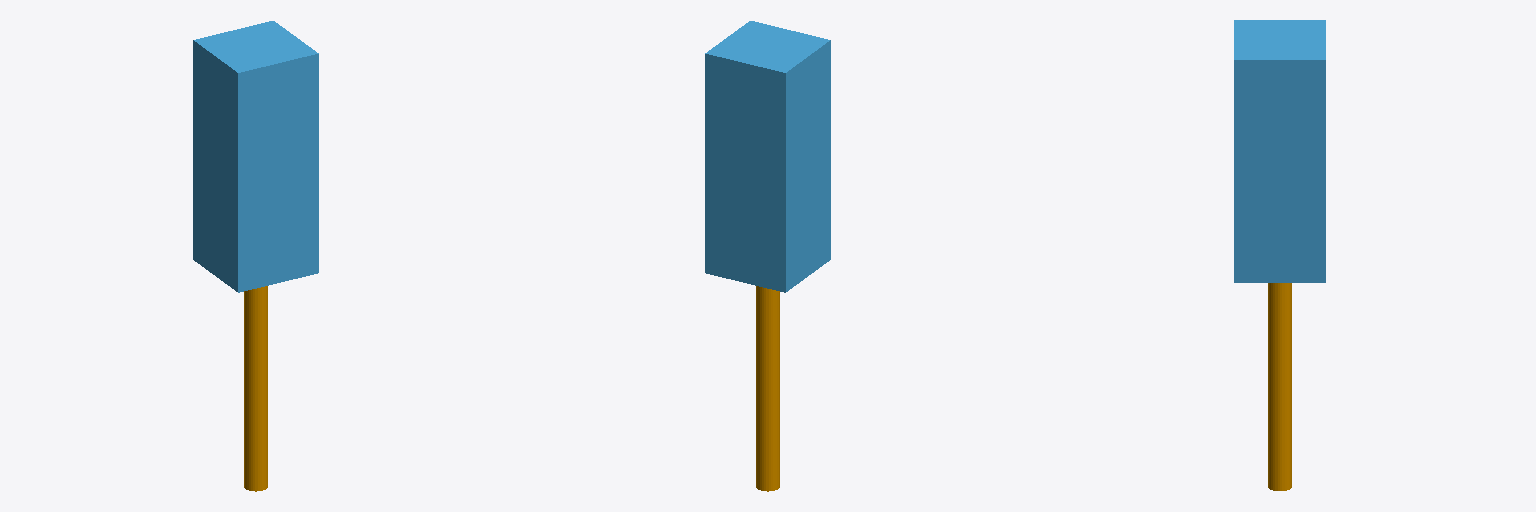
The robot description file, URDF, robot "screwdriver_on_the_table":
<?xml version="1.0" ?>
<!-- this is the one without any virtual joints and links -->
<robot name="screwdriver_on_the_table">
<link name="screwdriver_stick">
    <inertial>
      <mass value="0.05"/>
      <!-- <friction value="1.0"/> -->
      <inertia ixx="0.000041979" ixy="0.0" ixz="0.0" iyy="0.000041979" iyz="0.0" izz="0.000000625"/>
    </inertial>
    <visual>
        <origin rpy="0 0 0" xyz="0 0 0.05"/>
        <geometry>
            <cylinder radius="0.005" length="0.1"/>
        </geometry>
        <!-- <material name="White">
	 	    <color rgba="0.9 0.9 0.9 0.5"/>
        </material> -->
    </visual>
    <collision>
        <origin rpy="0 0 0" xyz="0 0 0.05"/>
        <geometry>
            <cylinder radius="0.005" length="0.1"/>
        </geometry>
    </collision>
</link>

<gazebo reference="screwdriver_body">
    <mu1>0.651814</mu1>
    <mu2>1.054368</mu2>
    <!-- Isaac Sim maps mu1/mu2 to PhysX static/dynamic friction during URDF→USD import -->
</gazebo>

<joint name="screwdriver_stick_body_joint" type="fixed">
    <parent link="screwdriver_stick"/>
    <child link="screwdriver_body"/>
    <origin rpy="0 0 0" xyz="0 0 0.1"/> 
    <axis xyz="0 0 1"/>
</joint>

<link name="screwdriver_body">
    <inertial>
      <mass value="0.061820"/>
      <inertia ixx="0.000058654" ixy="0.0" ixz="0.0" iyy="0.000059066" iyz="0.0" izz="0.000014687"/>
    </inertial>
    <visual>
        <origin rpy="0 0 0" xyz="0 0 0.05"/>
        <geometry>
            <box size="0.038282 0.037222 0.100000"/>
        </geometry>
        <!-- <material name="Red1">
	 	    <color rgba="0.9 0. 0. 0.5"/>
        </material> -->
    </visual>
    <collision>
        <origin rpy="0 0 0" xyz="0 0 0.05"/>
        <geometry>
            <box size="0.038282 0.037222 0.100000"/>
        </geometry>
    </collision>
</link>

<!-- <joint name="screwdriver_body_cap_joint" type="revolute">
    <parent link="screwdriver_body"/>
    <child link="screwdriver_cap"/>
    <origin rpy="0 0 0" xyz="0 0 0.1"/> 
    <axis xyz="0 0 1"/>
</joint>

<link name="screwdriver_cap">
    <inertial>
      <mass value="0.005"/>
      <inertia ixx="0.00001" ixy="0.0" ixz="0.0" iyy="0.000005" iyz="0.0" izz="0.000005"/>
    </inertial>
    <visual>
        <origin rpy="0 0 0" xyz="0 0 0.0006"/>
        <geometry>
            <cylinder radius="0.02" length="0.001"/>
        </geometry>
        <material name="Yellow">
	 	    <color rgba="0.9 0.9 0. 1.0"/>
        </material>
    </visual>
    <collision>
        <origin rpy="0 0 0" xyz="0 0 0.0005"/>
        <geometry>
            <cylinder radius="0.02" length="0.001"/>
        </geometry>
    </collision>
</link> -->

</robot>

--- Facts derived from the render (not from the file) ---
3 views of the same robot in one strip: view 1: azimuth 30°, elevation 25°; view 2: azimuth 150°, elevation 25°; view 3: azimuth 270°, elevation 25° (orthographic).
Model screwdriver_on_the_table with 2 links and 1 joints (1 fixed), rooted at screwdriver_stick, posed every joint at zero.
Links seen in each view (by area): view 1: screwdriver_body, screwdriver_stick; view 2: screwdriver_body, screwdriver_stick; view 3: screwdriver_body, screwdriver_stick.
Link boxes in pixels (x1,y1,x2,y2): screwdriver_body: (193,21,318,292); screwdriver_stick: (244,286,267,491); screwdriver_body: (705,21,830,292); screwdriver_stick: (756,286,779,491); screwdriver_body: (1234,20,1325,282); screwdriver_stick: (1268,283,1291,490).
Size in the robot's own frame: 0.0383 by 0.0372 by 0.2 metres.
Geometry: primitives only (box / cylinder / sphere), no mesh files.
